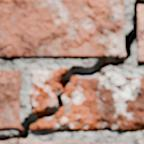brick: (0, 0, 124, 57), (0, 70, 21, 129), (0, 139, 98, 143), (138, 6, 143, 62)
broken_brick: (32, 70, 143, 130), (29, 67, 67, 111)
crack: (0, 0, 143, 142)
